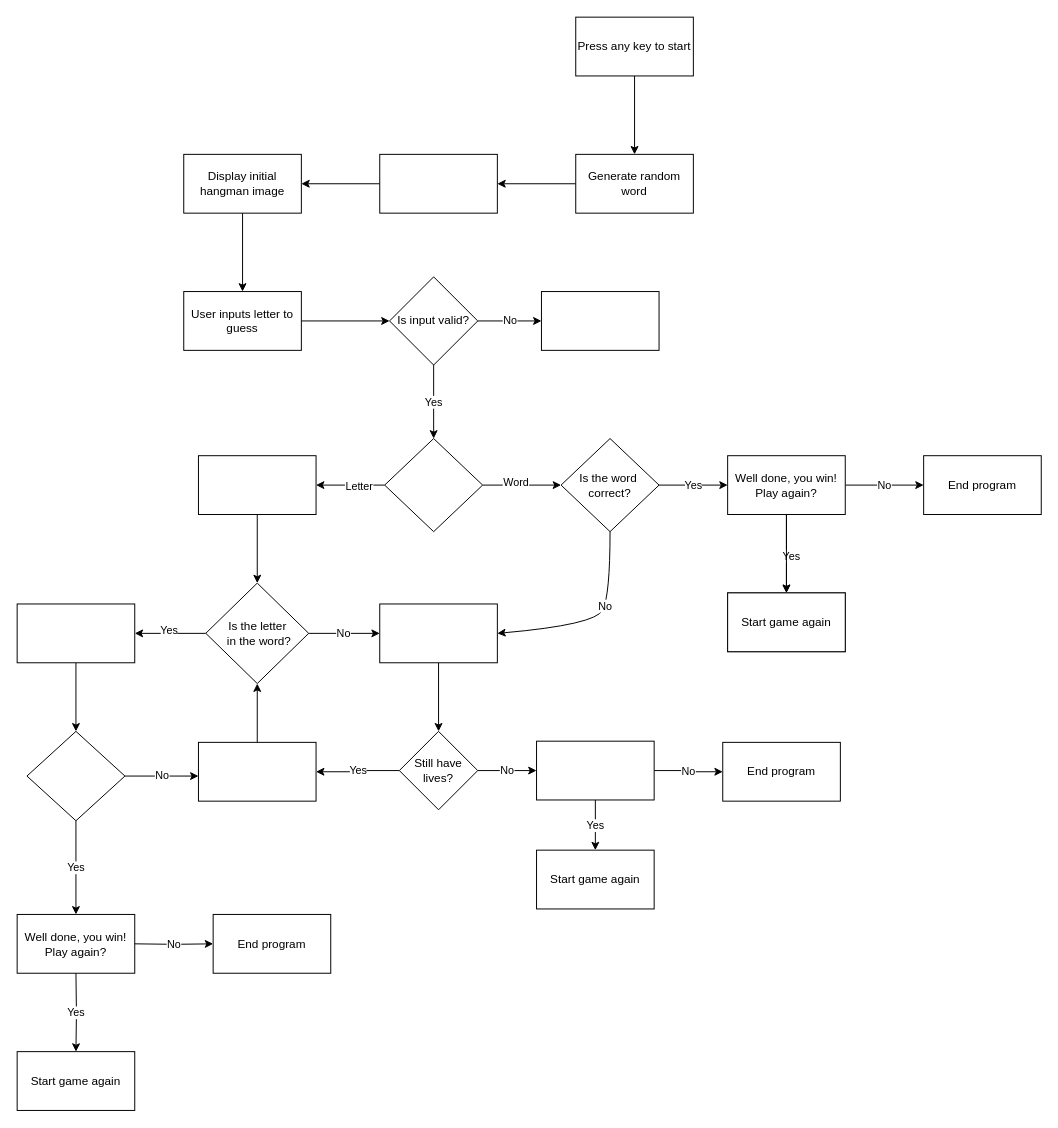
Some shapes in this 1058 by 1128 pixel diagram are drawn without their labels. The box of each missing label's shape, as (x1, y1, x2, y2) in pixels:
Add to hangman image: (379, 603, 497, 663)
Add to used letters list: (197, 455, 316, 514)
Display correct letter: (16, 603, 135, 663)
Display hyphens to represent the target word: (379, 153, 497, 213)
Guess again: (197, 741, 316, 801)
Is it a letter or word?: (384, 438, 483, 532)
Is the word complete?: (26, 730, 125, 821)
Report error and let the user guess again: (540, 291, 659, 350)
You lose! Play again?: (536, 740, 654, 800)
